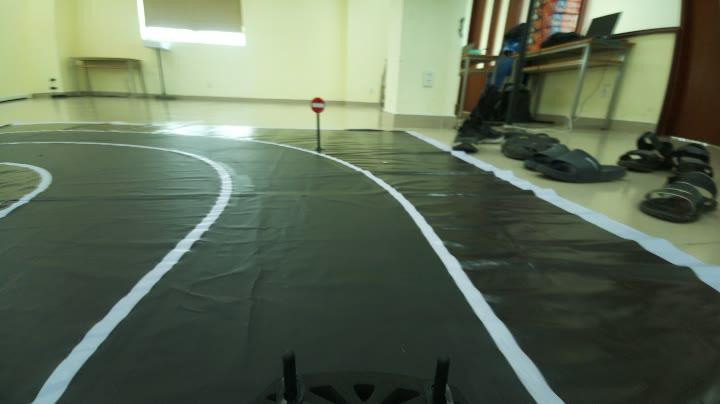no_entry: (305, 94, 334, 116)
